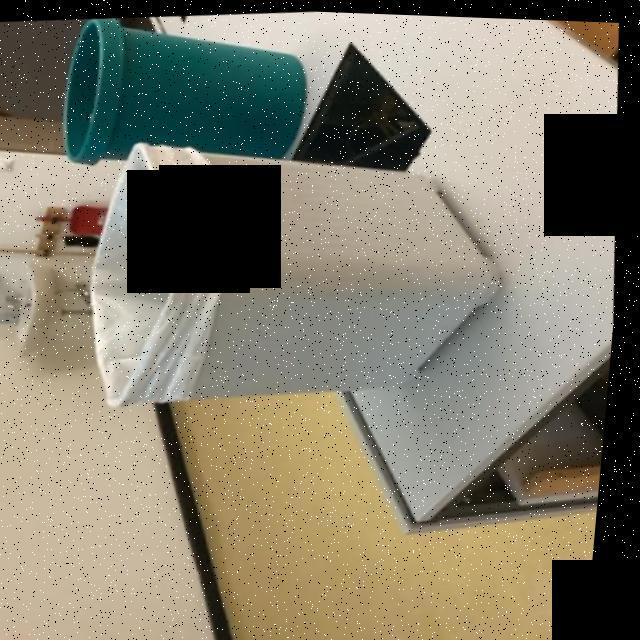bin: (49, 109, 542, 465), (0, 0, 332, 202)
